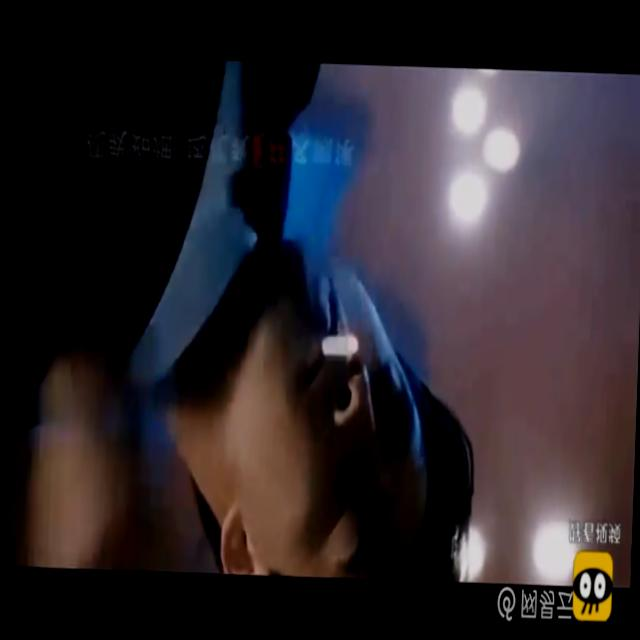cigarette: (318, 328, 359, 367)
